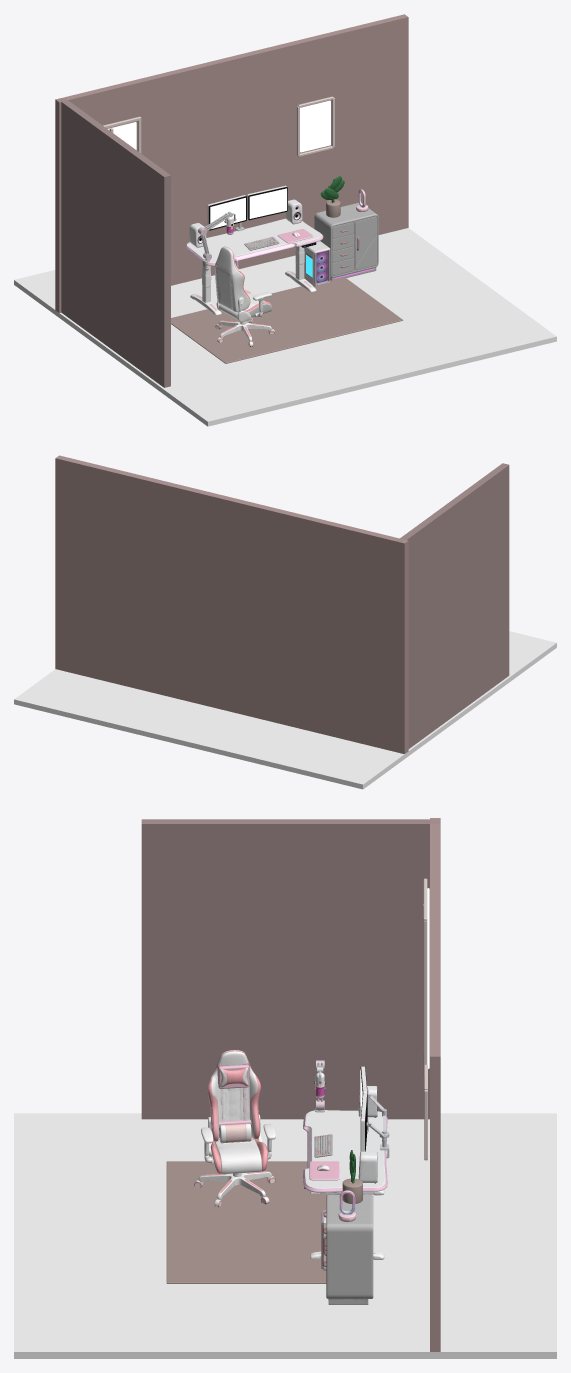
3 renders of one model, top to bottom at view 1: azimuth 30°, elevation 25°; view 2: azimuth 150°, elevation 25°; view 3: azimuth 270°, elevation 25°, orthographic. The views are drawn at different scales.
Visible parts, largest first — view 1: Architecture_Back_Wall, Architecture_Floor, Architecture_Left_Wall, Decor_Rug, GEO_Desk_Moving_Top, GEO_Chair_Swivel_Upper, GEO_Cabinet_Body, Wall_Art_Art, GEO_Door_Right_Front, 04-pc-tower_mesh_01, Screen_Right, GEO_Desk_Fixed_Base (+2 smaller); view 2: Architecture_Back_Wall, Architecture_Left_Wall, Architecture_Floor; view 3: Architecture_Floor, Architecture_Left_Wall, Decor_Rug, Architecture_Back_Wall, GEO_Chair_Swivel_Upper, GEO_Cabinet_Body, GEO_Desk_Moving_Top, GEO_Chair_Static_Base, Window_Frame_V.001.
Part boxes in pixels (x1,y1,x2,y2): Architecture_Back_Wall: (55, 14, 408, 312); Architecture_Floor: (14, 228, 556, 426); Architecture_Left_Wall: (58, 98, 170, 387); Decor_Rug: (171, 277, 403, 363); GEO_Desk_Moving_Top: (185, 218, 323, 274); GEO_Chair_Swivel_Upper: (215, 246, 272, 321); GEO_Cabinet_Body: (314, 202, 378, 280); Wall_Art_Art: (300, 100, 330, 152); GEO_Door_Right_Front: (355, 216, 377, 270); 04-pc-tower_mesh_01: (304, 241, 330, 286); Screen_Right: (249, 188, 286, 218); GEO_Desk_Fixed_Base: (190, 263, 316, 315); Architecture_Back_Wall: (55, 455, 408, 753); Architecture_Left_Wall: (396, 463, 509, 748); Architecture_Floor: (14, 631, 556, 789); Architecture_Floor: (14, 1113, 556, 1358); Architecture_Left_Wall: (141, 819, 440, 1119); Decor_Rug: (166, 1161, 334, 1283); Architecture_Back_Wall: (430, 818, 440, 1351); GEO_Chair_Swivel_Upper: (201, 1050, 275, 1173); GEO_Cabinet_Body: (326, 1194, 373, 1304); GEO_Desk_Moving_Top: (303, 1110, 387, 1194); GEO_Chair_Static_Base: (194, 1171, 275, 1206); Window_Frame_V.001: (423, 921, 427, 1075).
Bounding box in the file's own units: 5.2 × 3.07 × 5.
Materials: 34 (12 with a texture image).
